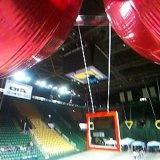Orange_Square_GShape: (86, 112, 120, 152)
Yellow_Circle_GShape: (154, 120, 160, 131)
Yellow_Square_GShape: (86, 122, 95, 130)
Yellow_Triangle_Gshape: (125, 121, 134, 130)
